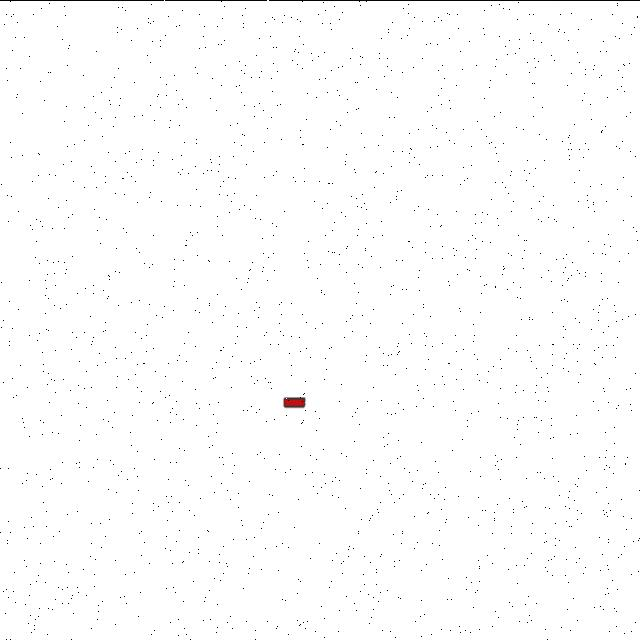3070b: (280, 394, 310, 409)
